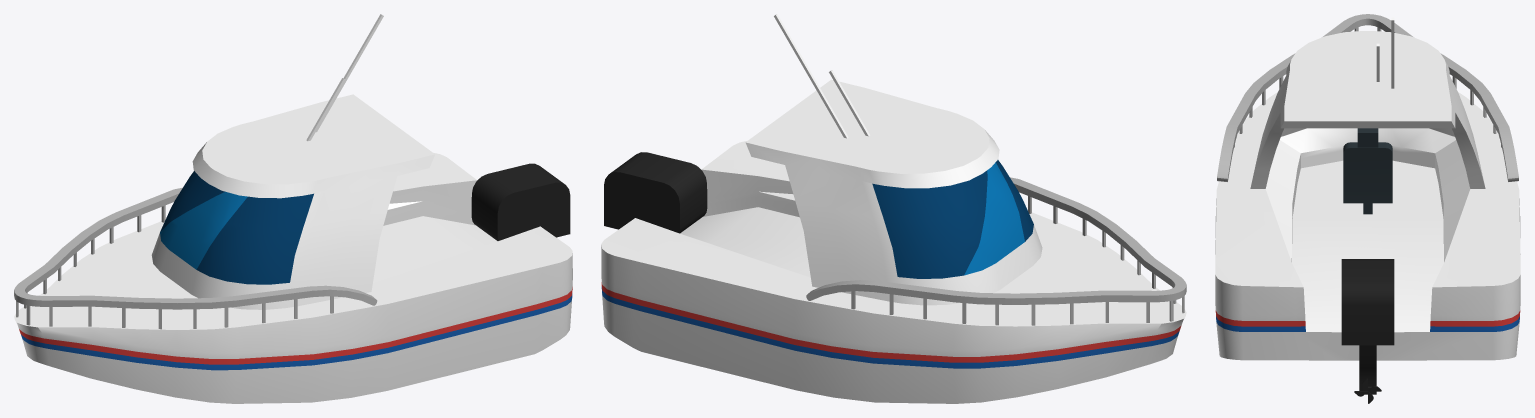
Rendered from motor_boat.gltf.
3 renders of one model, left to right at view 1: azimuth 30°, elevation 25°; view 2: azimuth 150°, elevation 25°; view 3: azimuth 270°, elevation 25°, orthographic. The views are drawn at different scales.
Parts seen in each view (by area): view 1: Cube.742; view 2: Cube.742; view 3: Cube.742.
Boxes of the visible parts, bbox=[...] form: Cube.742: bbox=[14, 14, 572, 403]; Cube.742: bbox=[601, 14, 1186, 403]; Cube.742: bbox=[1215, 14, 1520, 403].
Bounding box in the file's own units: 2.32 × 1.25 × 1.11.
1 material, 1 textured.
